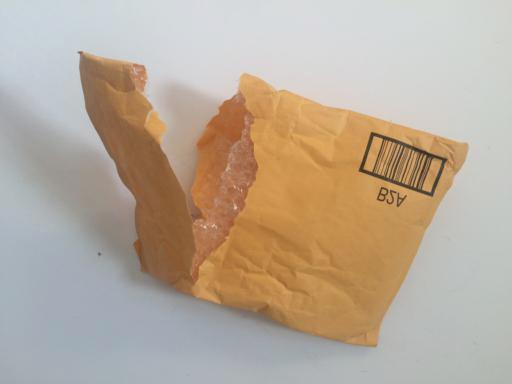trash: (77, 47, 468, 349)
